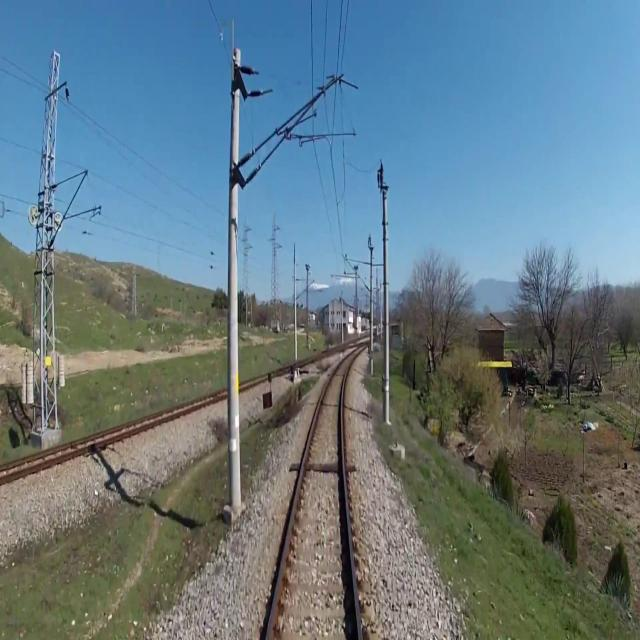rail-track: (269, 353, 356, 639)
